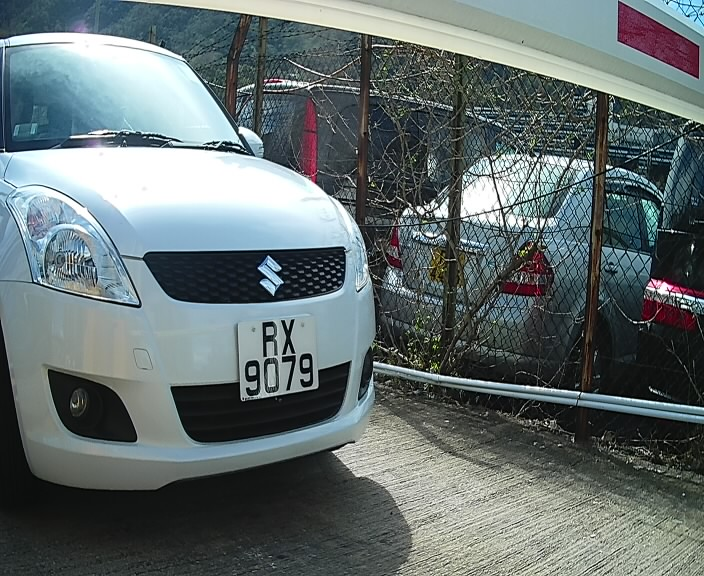License Plate: (225, 302, 326, 415)
